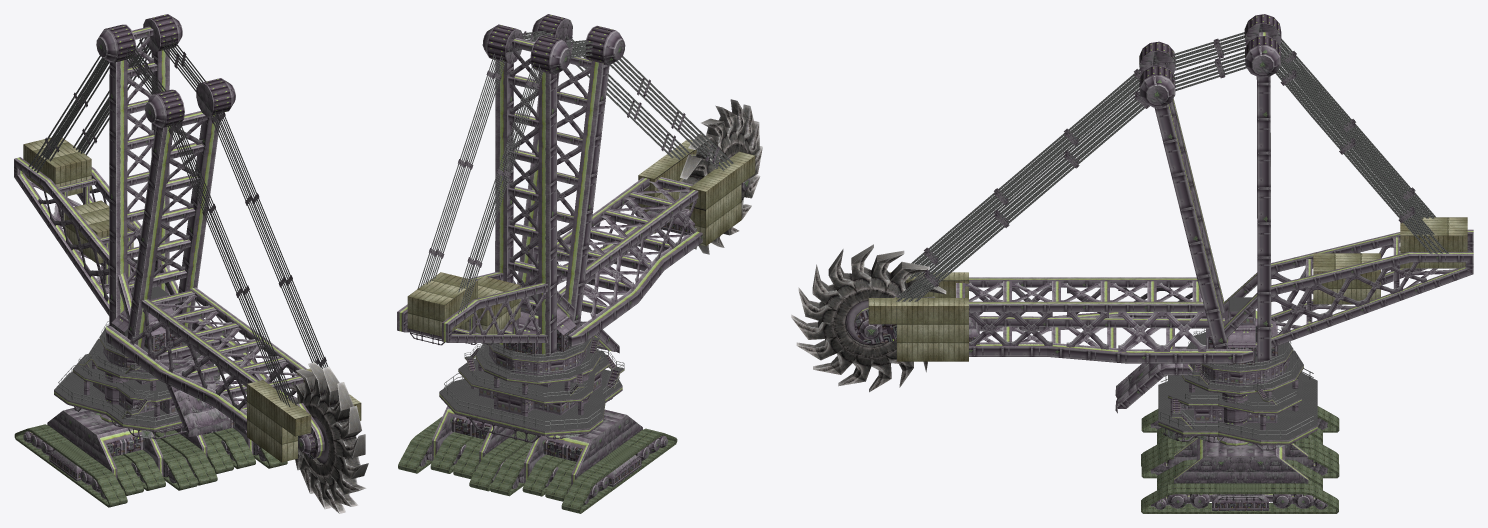
Rendered from C4SMMININGMACHINEIL_H.bgf.obj.
The picture shows the model from 3 angles, left to right: view 1: azimuth 30°, elevation 25°; view 2: azimuth 150°, elevation 25°; view 3: azimuth 270°, elevation 25°; orthographic projection. The views are drawn at different scales.
Parts seen in each view (by area): view 1: FRAG12, C4SMMININGMACHINEIL, FRAG00, FRAG09, FRAG13, FRAG08, FRAG06, FRAG10, FRAG05, FRAG04, FRAG03, FRAG02 (+2 smaller); view 2: C4SMMININGMACHINEIL, FRAG12, FRAG00, FRAG08, FRAG09, FRAG13, FRAG05, FRAG10, FRAG06, FRAG11, FRAG02, FRAG03 (+2 smaller); view 3: FRAG12, FRAG00, C4SMMININGMACHINEIL, FRAG13, FRAG06, FRAG10, FRAG05, FRAG11, FRAG09, FRAG08, FRAG04, FRAG01 (+3 smaller).
Part boxes in pixels (x1,y1,x2,y2): FRAG12: (105,287,324,462); C4SMMININGMACHINEIL: (14,372,287,507); FRAG00: (54,286,234,439); FRAG09: (127,111,221,349); FRAG13: (14,137,178,321); FRAG08: (109,26,169,325); FRAG06: (168,109,328,407); FRAG10: (289,362,368,513); FRAG05: (28,37,151,172); FRAG04: (162,36,235,116); FRAG03: (145,89,184,127); FRAG02: (96,24,136,62); C4SMMININGMACHINEIL: (398,373,677,513); FRAG12: (535,151,755,346); FRAG00: (439,294,624,442); FRAG08: (495,38,557,356); FRAG09: (517,55,609,328); FRAG13: (397,272,574,345); FRAG05: (417,53,543,314); FRAG10: (679,99,762,254); FRAG06: (569,37,733,170); FRAG11: (638,139,696,233); FRAG02: (530,35,571,74); FRAG03: (585,25,625,65); FRAG12: (889,272,1252,363); FRAG00: (1115,297,1317,450); C4SMMININGMACHINEIL: (1141,406,1339,513); FRAG13: (1224,217,1473,353); FRAG06: (896,69,1149,301); FRAG10: (791,244,946,392); FRAG05: (1275,38,1448,253); FRAG11: (854,295,968,361); FRAG09: (1154,98,1227,349); FRAG08: (1256,32,1271,362); FRAG04: (1139,51,1246,107); FRAG01: (1245,36,1280,77).
Size of the model in its own units: 26.65 by 58.56 by 82.45.
Materials: 27 (27 with a texture image).
